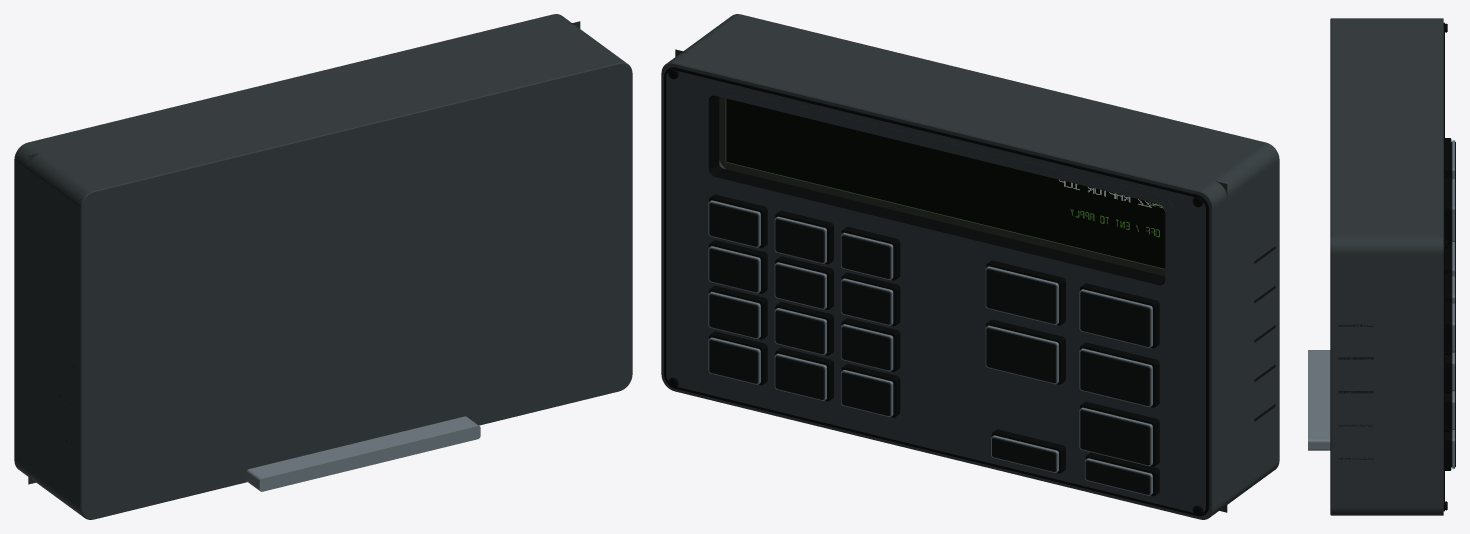
File: MFDStudio.obj
The picture shows the model from 3 angles, left to right: view 1: azimuth 30°, elevation 25°; view 2: azimuth 150°, elevation 25°; view 3: azimuth 270°, elevation 25°; orthographic projection. The views are drawn at different scales.
Parts seen in each view (by area): view 1: MFDStudioBody; view 2: MFDStudioBody, MFDStudioScreen, MFDStudioKey12, MFDStudioKey13, MFDStudioKey14, MFDStudioKey15, MFDStudioKey16, MFDStudioKey7, MFDStudioKey0, MFDStudioKey1, MFDStudioKey6, MFDStudioKey10 (+9 smaller); view 3: MFDStudioBody.
Boxes of the visible parts, bbox=[...] form: MFDStudioBody: bbox=[14, 14, 632, 519]; MFDStudioBody: bbox=[661, 14, 1279, 519]; MFDStudioScreen: bbox=[675, 49, 1227, 512]; MFDStudioKey12: bbox=[1080, 291, 1150, 346]; MFDStudioKey13: bbox=[986, 269, 1056, 323]; MFDStudioKey14: bbox=[1080, 351, 1150, 405]; MFDStudioKey15: bbox=[986, 328, 1056, 383]; MFDStudioKey16: bbox=[1080, 410, 1150, 465]; MFDStudioKey7: bbox=[775, 310, 824, 354]; MFDStudioKey0: bbox=[841, 235, 890, 278]; MFDStudioKey1: bbox=[775, 219, 824, 262]; MFDStudioKey6: bbox=[841, 326, 890, 370]; MFDStudioKey10: bbox=[775, 356, 824, 399]; MFDStudioBody: bbox=[1308, 18, 1454, 515].
Size of the model in its own units: 0.29 by 0.165 by 0.0795.
10 materials, 1 textured.
